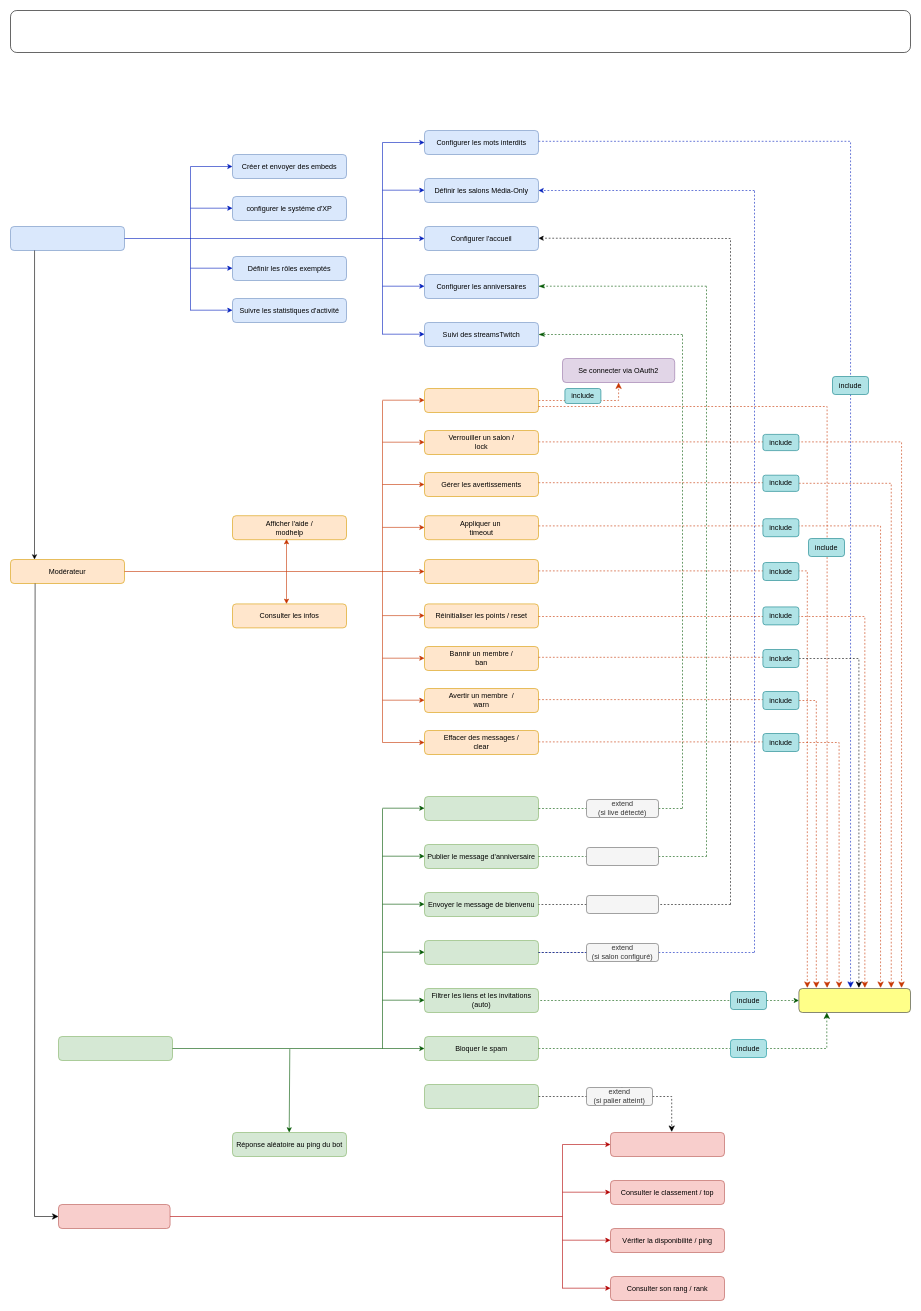
Some shapes in this 921 by 1311 pixel diagram are drawn without their labels. The centre of each missing label's shape, as x and y in pixels:
"Administrateur" belongs at pixel 67 238.
"Ajuster l'XP /addXP / setXP" belongs at pixel 481 571.
"Attribuer un rôle de palier" belongs at pixel 481 1096.
"Bot Discord" belongs at pixel 115 1048.
"Diagramme de cas d'utilisation" belongs at pixel 460 31.
"extend (le jour j)" belongs at pixel 622 856.
"extend (si nouveau membre)" belongs at pixel 622 904.
"Gagner de l'XP en participant" belongs at pixel 667 1144.
"Journaliser l'actions (logs)" belongs at pixel 854 1000.
"Membre" belongs at pixel 114 1216.
"Modérer en 1 clic (dashboard)" belongs at pixel 481 400.
"Publier la notification de stream" belongs at pixel 481 808.
"Supprimer message sans média" belongs at pixel 481 952.
